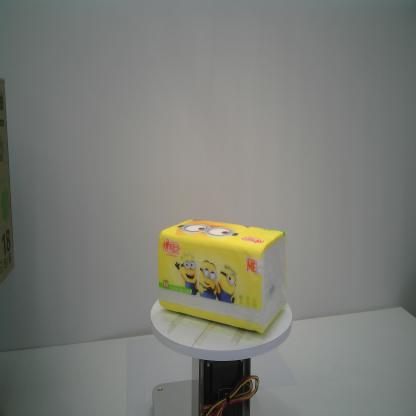Tissue: (157, 216, 288, 335)
